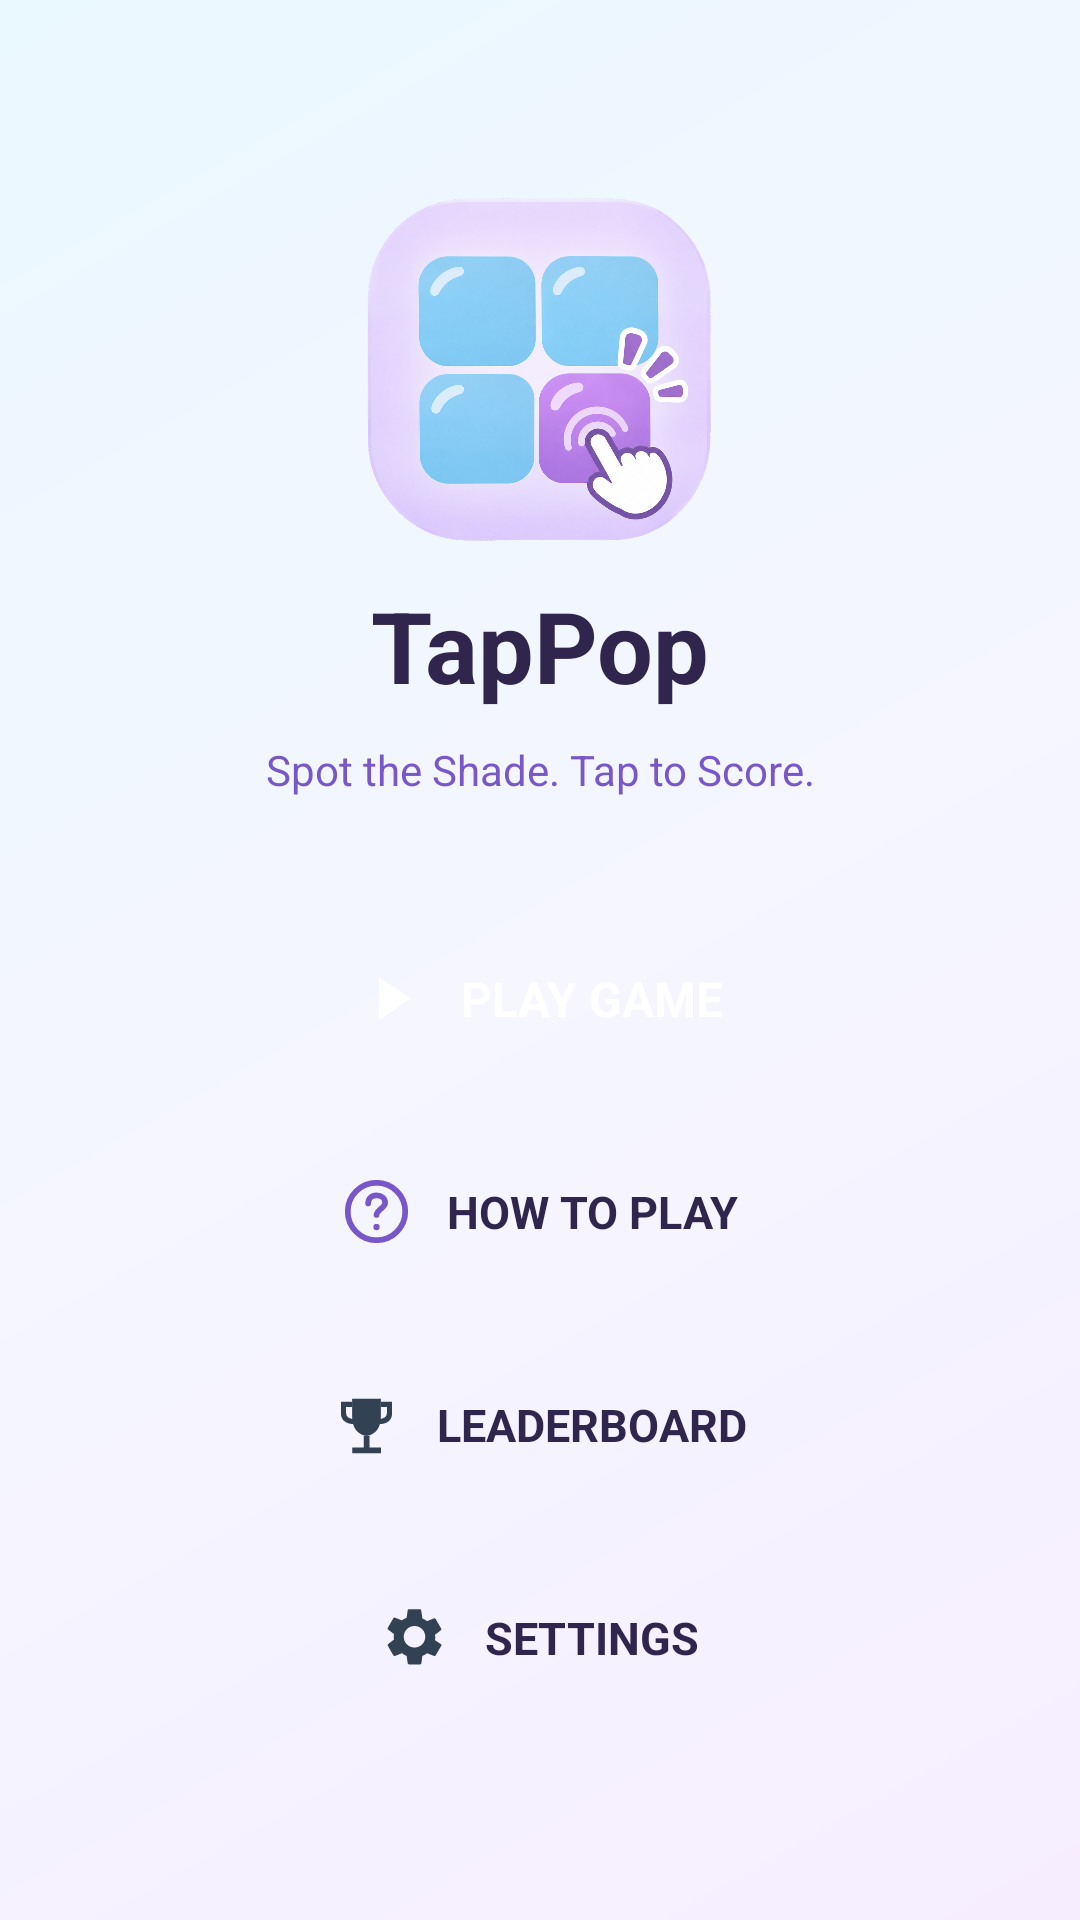

Icon click points for this 1080px×1920px phone screenshot, format (x=x, y=y):
help: (x=376, y=1211)
trophy: (x=366, y=1426)
